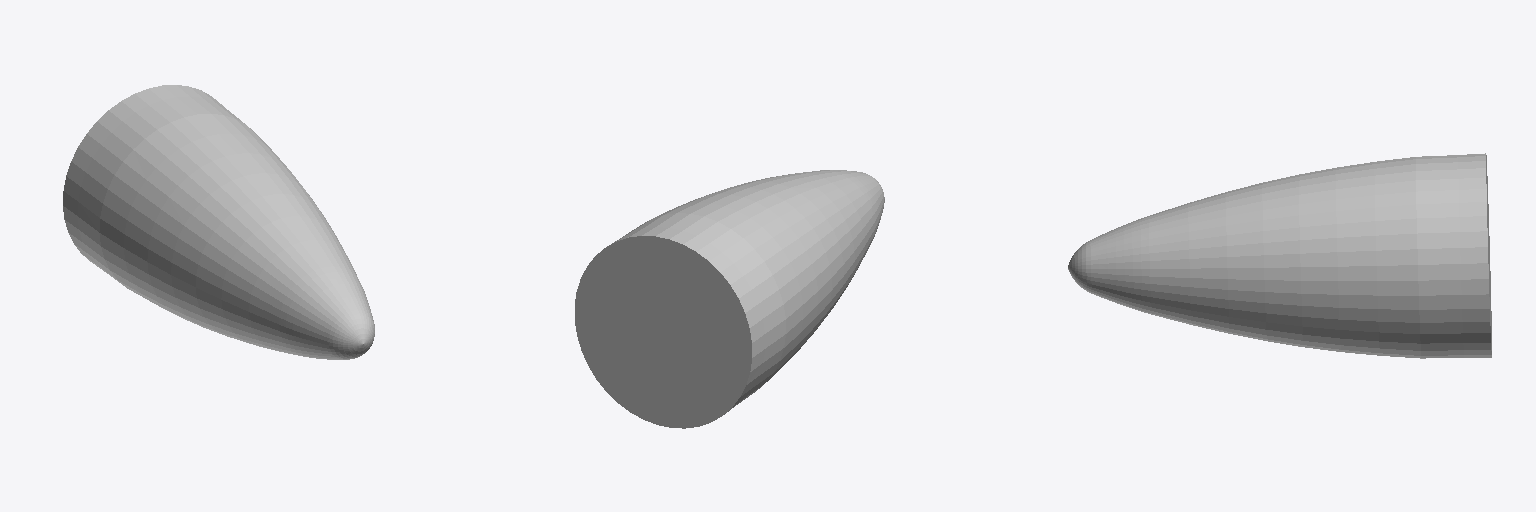
The model's file is bullet.obj.
3 renders of one model, left to right at view 1: azimuth 30°, elevation 25°; view 2: azimuth 150°, elevation 25°; view 3: azimuth 270°, elevation 25°, orthographic.
Parts seen in each view (by area): view 1: Line061.001_Line061; view 2: Line061.001_Line061; view 3: Line061.001_Line061.
Part boxes in pixels (bbox=[...]): Line061.001_Line061: bbox=[63, 85, 374, 359]; Line061.001_Line061: bbox=[575, 170, 884, 428]; Line061.001_Line061: bbox=[1068, 153, 1491, 358].
Size of the model in its own units: 3.34 by 3.35 by 6.91.